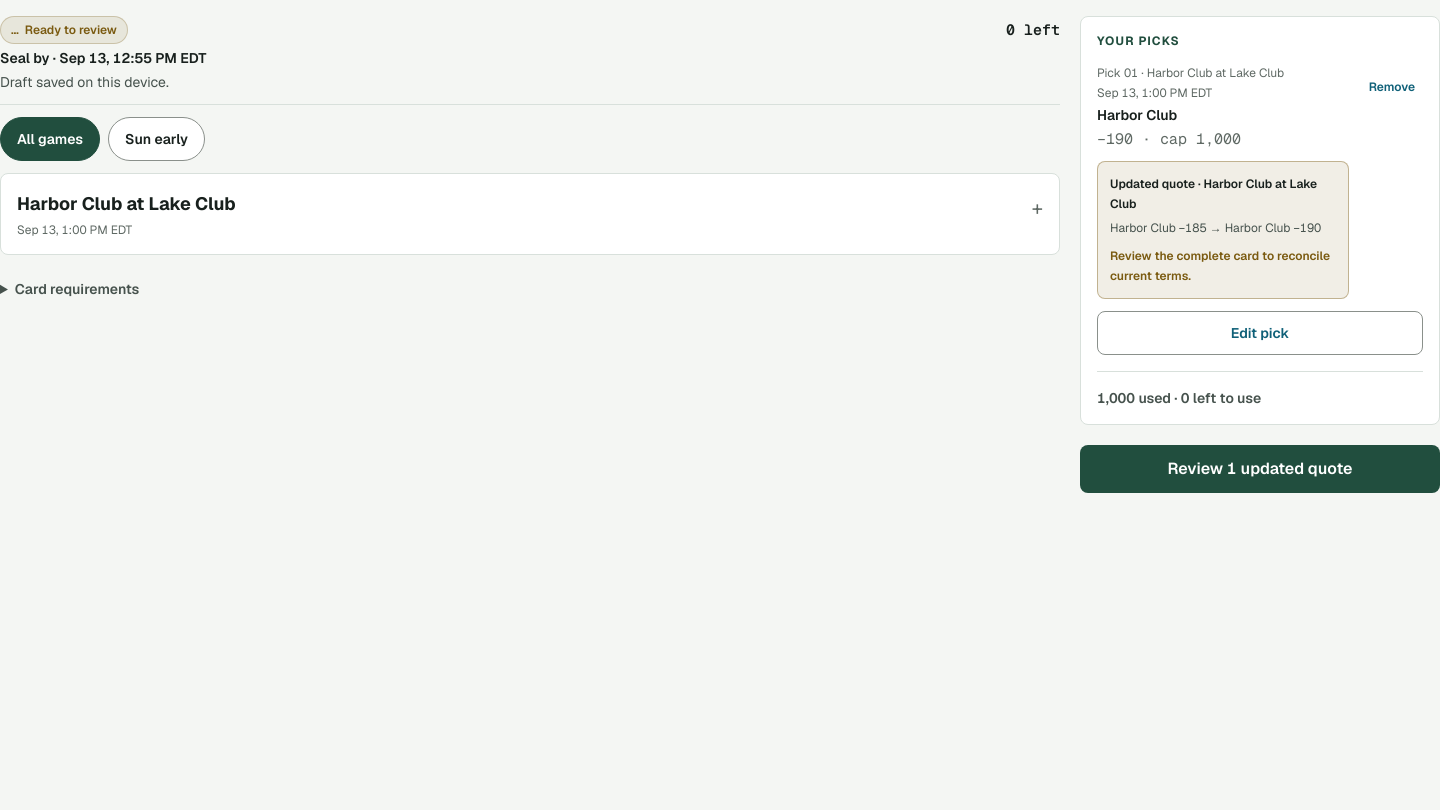
Test: authenticated card editor › keeps an unavailable restored quote under review until a healthy outcome is selected
Check: the text "Updated quote · Harbor Club at Lake Club" is shown, box [1110,174,1336,214]
Click the button "Edit pick" at (1260, 333), box [1097,311,1423,355]
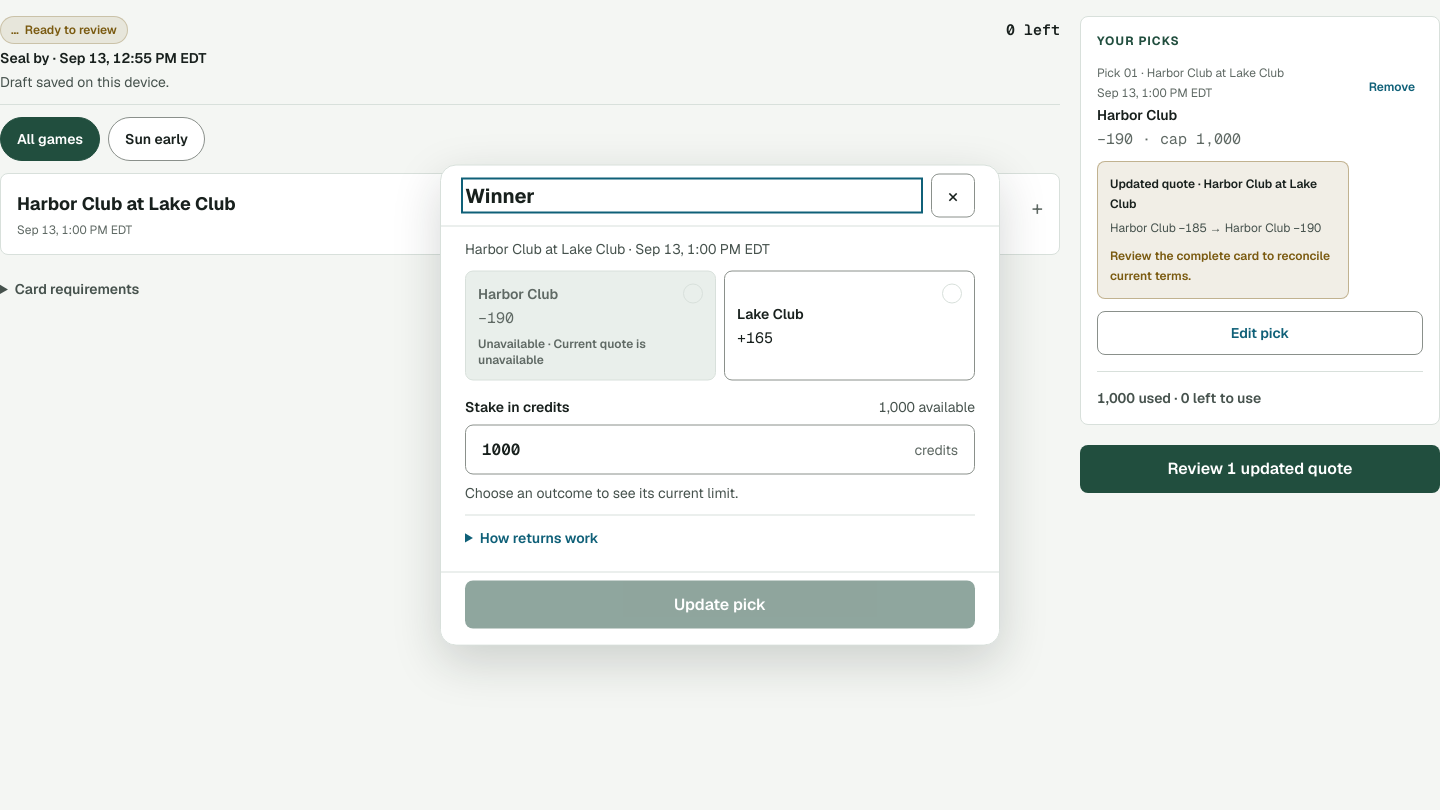
Check: the button "Harbor Club −190" is disabled, box [465,270,716,380]
Check: the button "Update pick" is disabled, box [465,580,975,628]
Submit the form, box [441,166,999,644]
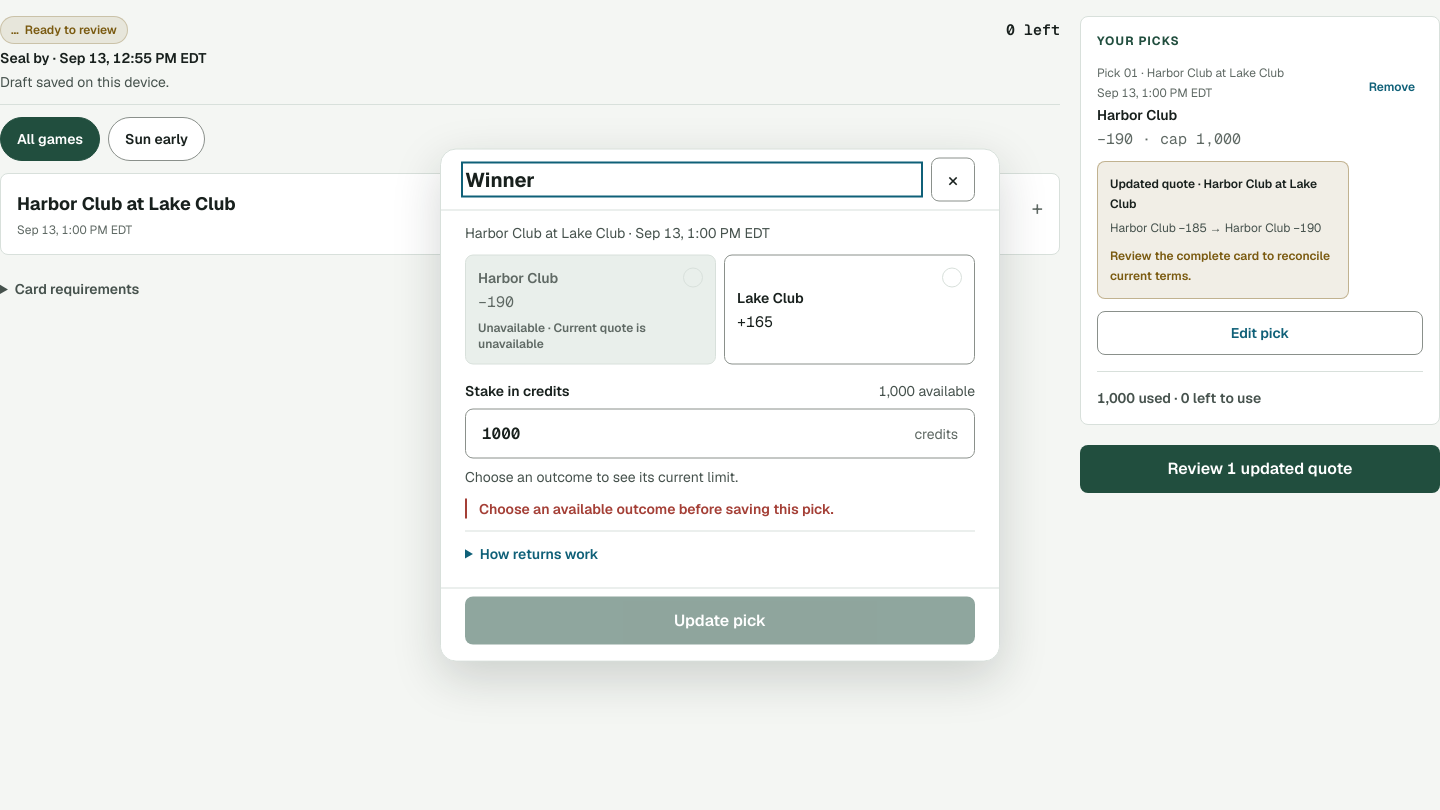
Check: the text "Updated quote · Harbor Club at Lake Club" is shown, box [1110,174,1336,214]
Check: the message reads "Choose an available outcome before saving this pick.", box [479,500,834,518]
Click the button "Lake Club +165 ✓" at (850, 310), box [724,254,975,364]
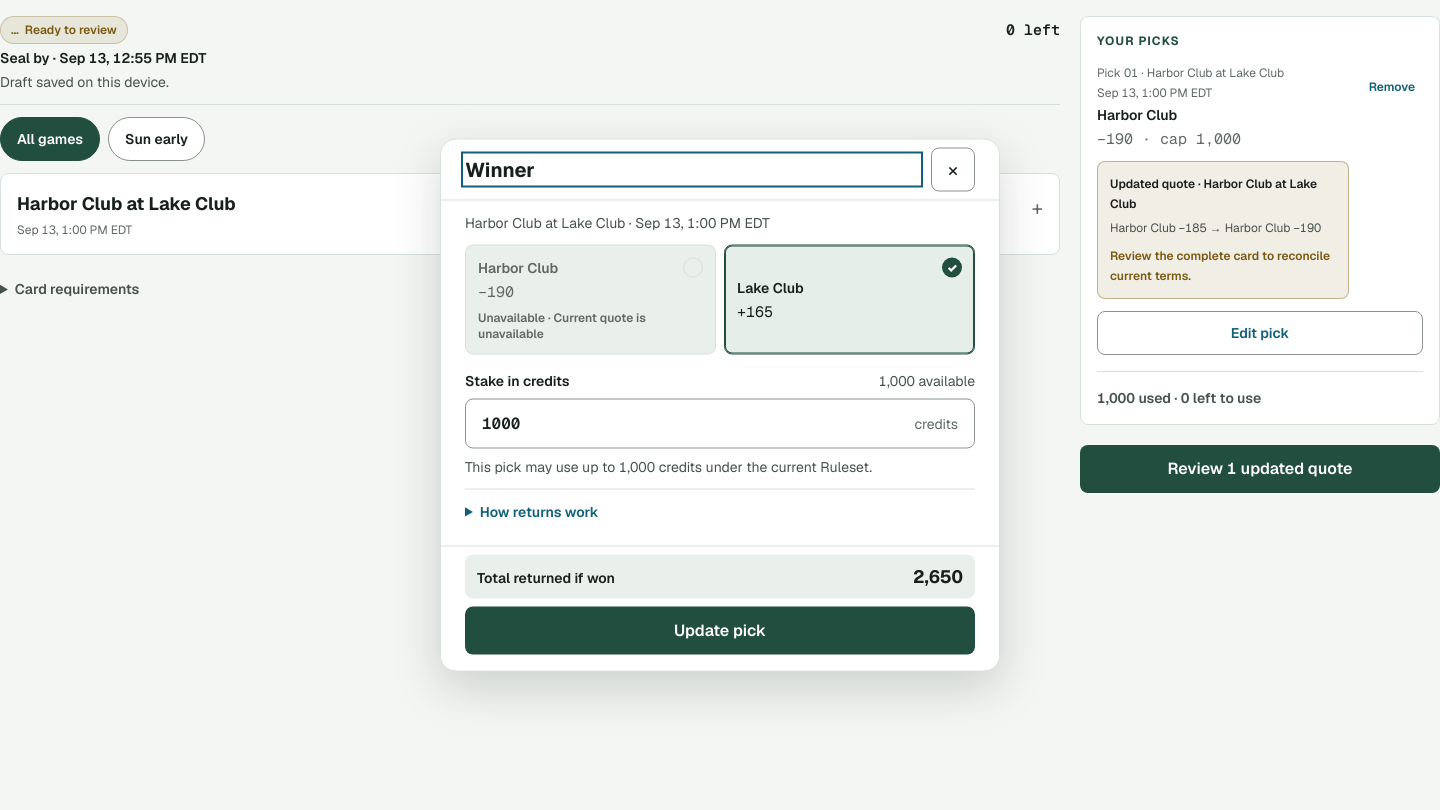
Check: the button "Update pick" is enabled, box [465,606,975,654]
Submit the form, box [441,140,999,670]
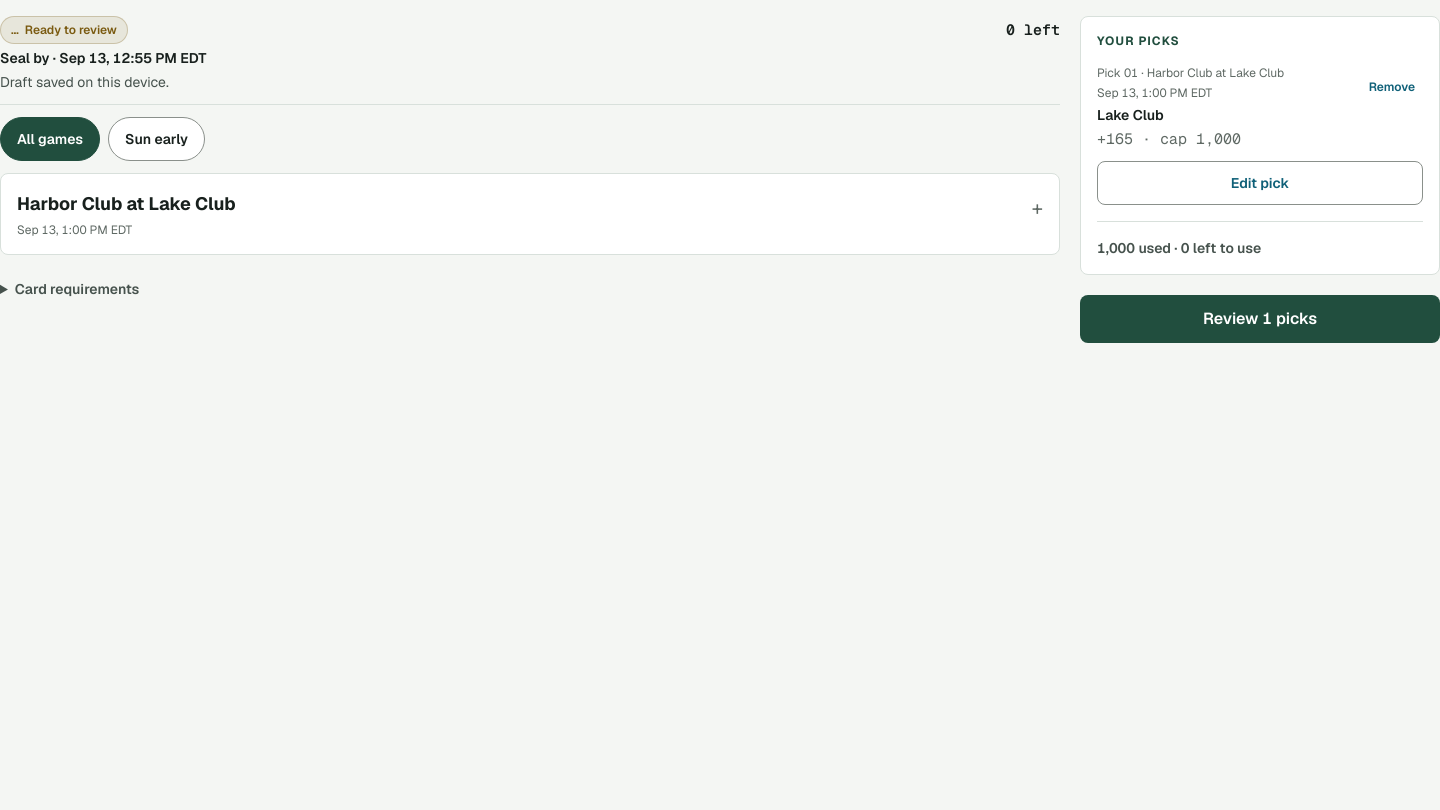
Check: the text "Updated quote" is gone
